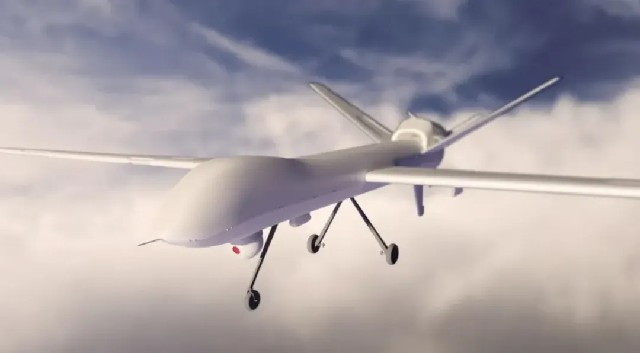maybay_khongnguoilai: (16, 77, 636, 266)
